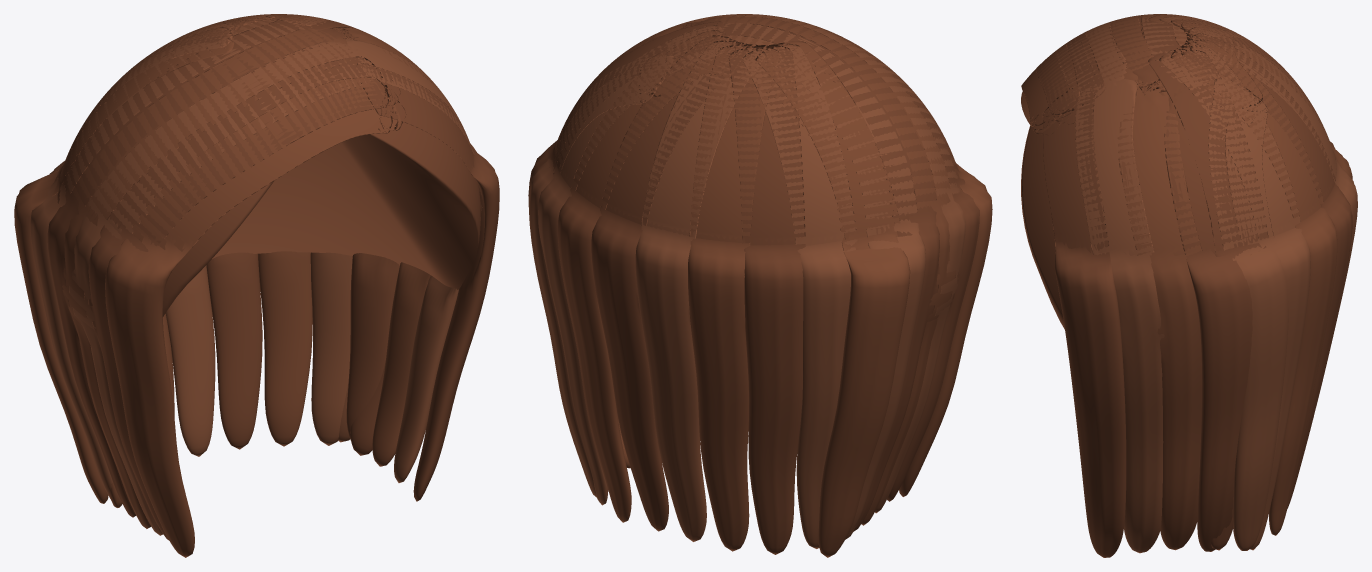
The model's file is Feminine-beanie-hair.glb.
3 views of the same model, side by side, from view 1: azimuth 30°, elevation 25°; view 2: azimuth 150°, elevation 25°; view 3: azimuth 270°, elevation 25° (orthographic). The views are drawn at different scales.
Visible parts, largest first — view 1: 226 hair / Hair / sculpted 0.001, 226 hair / Hair / sculpted 1.002, 226 hair / Hair / sculpted 2.001, 226 hair / Hair / sculpted 1.001; view 2: 226 hair / Hair / sculpted 0.001, 226 hair / Hair / sculpted 2.001, 226 hair / Hair / sculpted 1.002; view 3: 226 hair / Hair / sculpted 1.002, 226 hair / Hair / sculpted 2.001, 226 hair / Hair / sculpted 0.001, 226 hair / Hair / sculpted 1.001.
Part boxes in pixels (x1,y1,x2,y2): 226 hair / Hair / sculpted 0.001: [14, 14, 443, 557]; 226 hair / Hair / sculpted 1.002: [47, 14, 499, 540]; 226 hair / Hair / sculpted 2.001: [30, 14, 482, 535]; 226 hair / Hair / sculpted 1.001: [162, 122, 480, 317]; 226 hair / Hair / sculpted 0.001: [557, 14, 992, 557]; 226 hair / Hair / sculpted 2.001: [529, 14, 965, 548]; 226 hair / Hair / sculpted 1.002: [528, 14, 979, 554]; 226 hair / Hair / sculpted 1.002: [1036, 14, 1352, 557]; 226 hair / Hair / sculpted 2.001: [1056, 14, 1357, 553]; 226 hair / Hair / sculpted 0.001: [1021, 14, 1352, 550]; 226 hair / Hair / sculpted 1.001: [1021, 91, 1064, 329].
Bounding box in the file's own units: 1.02 × 1.16 × 0.7621.
